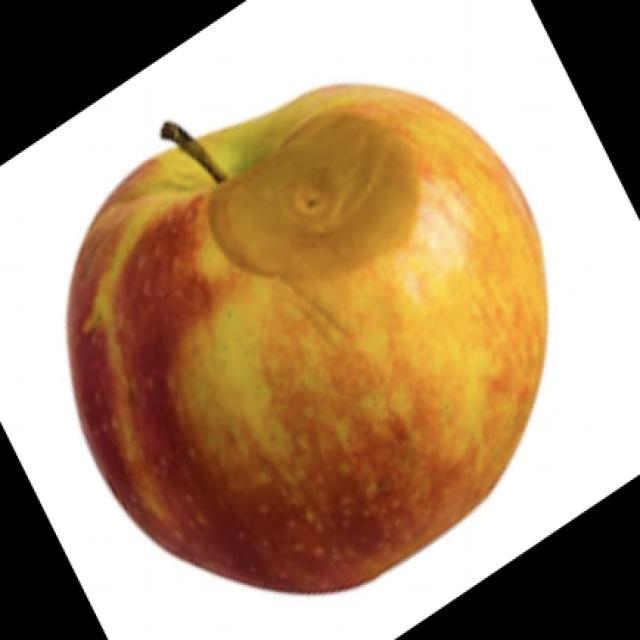Rotten: (40, 77, 550, 588)
